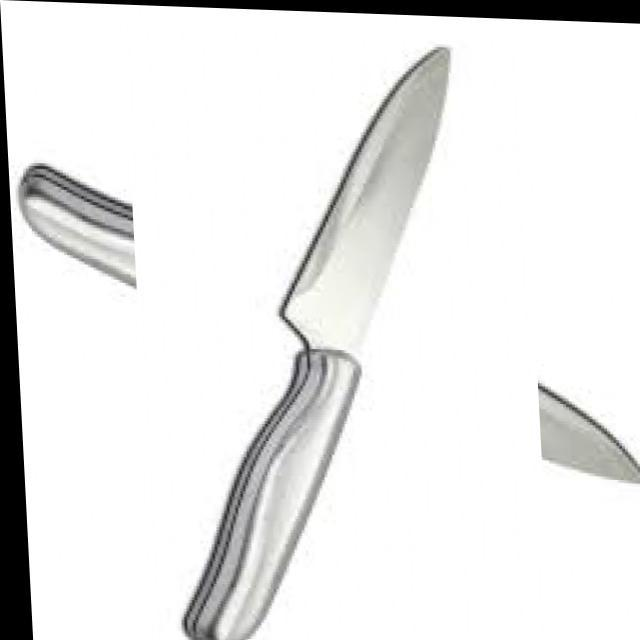knife: (180, 42, 452, 639)
